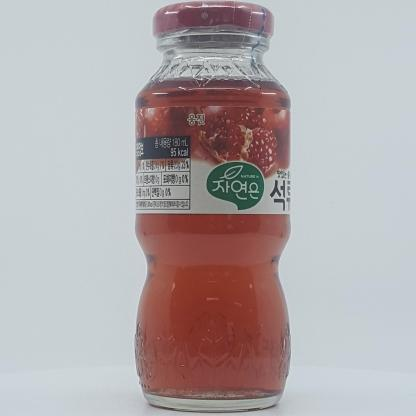-------180ML: (134, 1, 291, 412)
